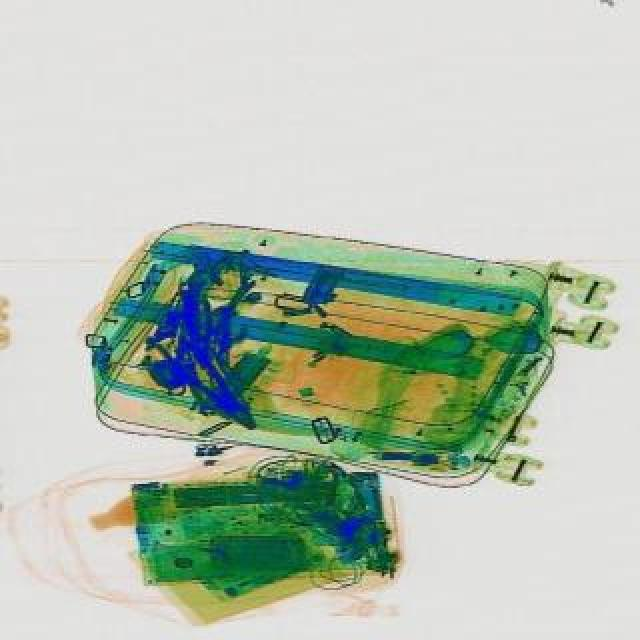wrench: (150, 320, 268, 440)
